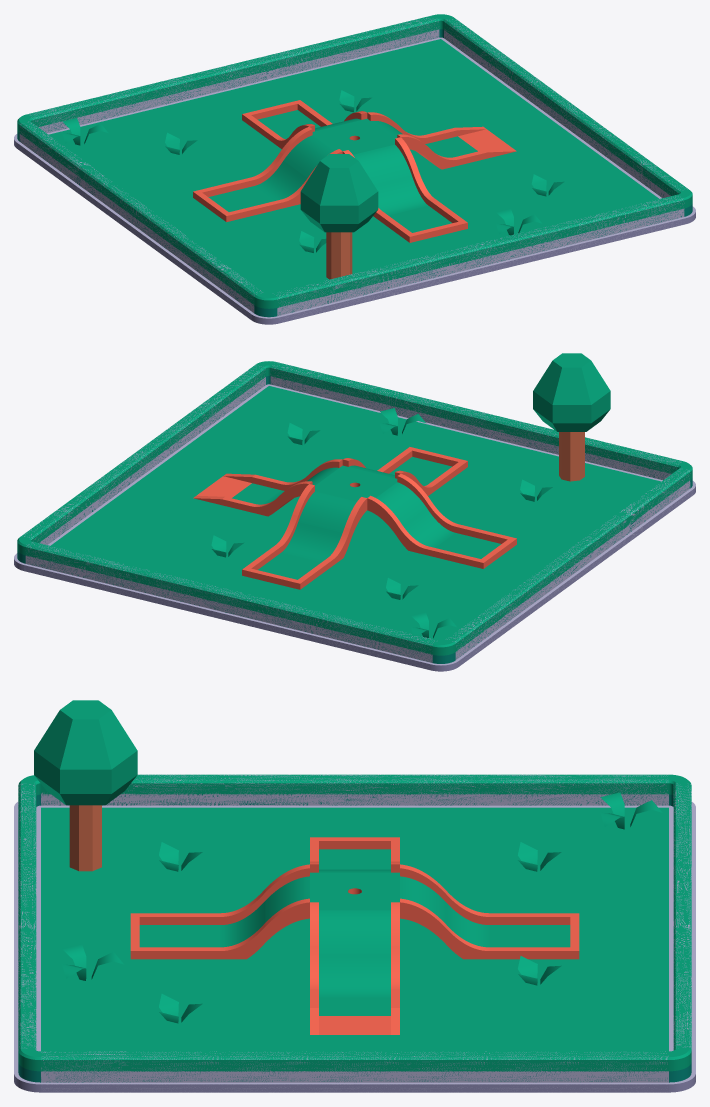
Rendered from CrossGolf.obj.
3 views of the same model, one above another, from view 1: azimuth 30°, elevation 25°; view 2: azimuth 150°, elevation 25°; view 3: azimuth 270°, elevation 25° (orthographic). The views are drawn at different scales.
Parts seen in each view (by area): view 1: mergedBlocks; view 2: mergedBlocks; view 3: mergedBlocks.
Part boxes in pixels (x1=…): mergedBlocks: x1=14, y1=14, x2=695, y2=324; mergedBlocks: x1=14, y1=353, x2=695, y2=671; mergedBlocks: x1=14, y1=700, x2=695, y2=1092.
Size of the model in its own units: 7.6 by 2 by 7.6.
